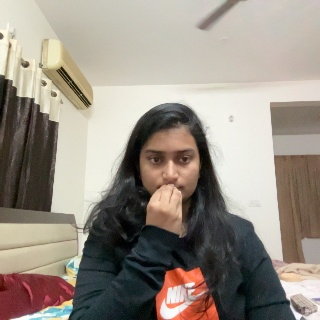Food: (144, 182, 188, 257)
